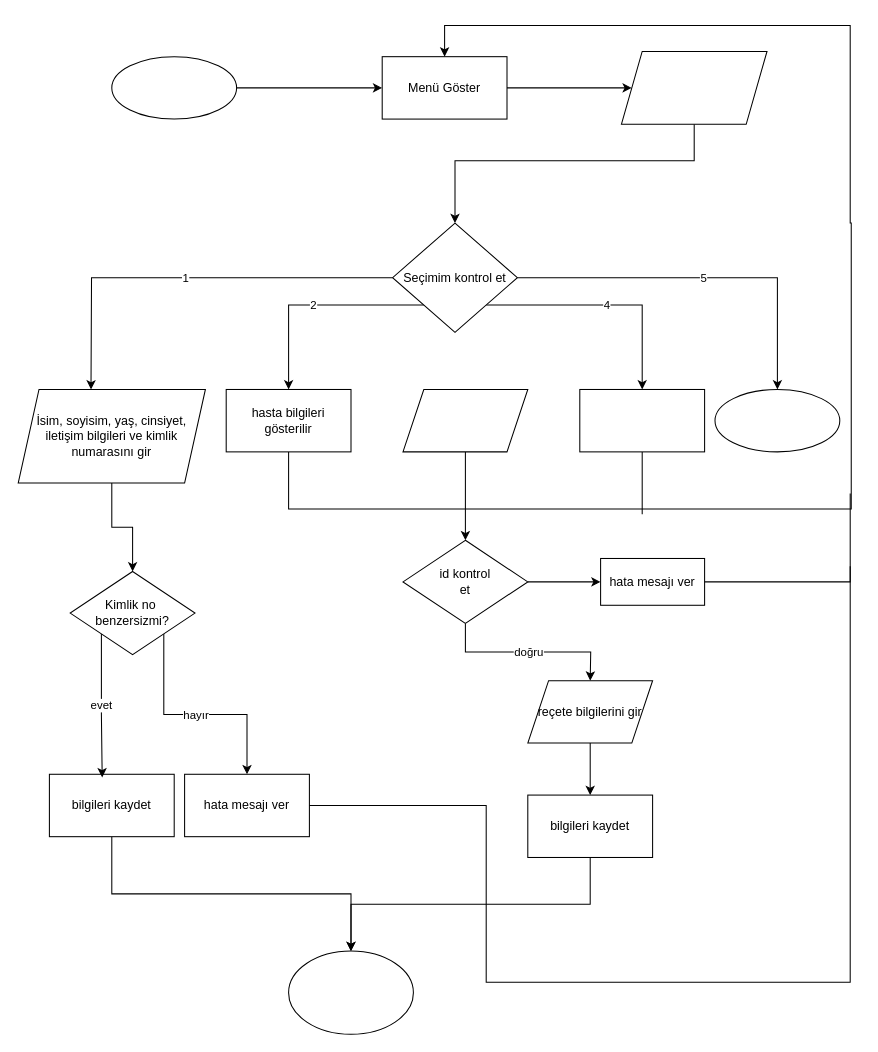
Some shapes in this 878 by 1052 pixel diagram are drawn without their labels. Each missing label, with the box of its shape:
Başla: (111, 56, 237, 119)
Bitir: (288, 950, 413, 1034)
Hasta id sini gir: (402, 388, 528, 452)
kullanıcıdan seçim al: (620, 50, 767, 124)
reçete bilgileri gösterilir: (579, 388, 705, 452)
son: (714, 388, 840, 452)
